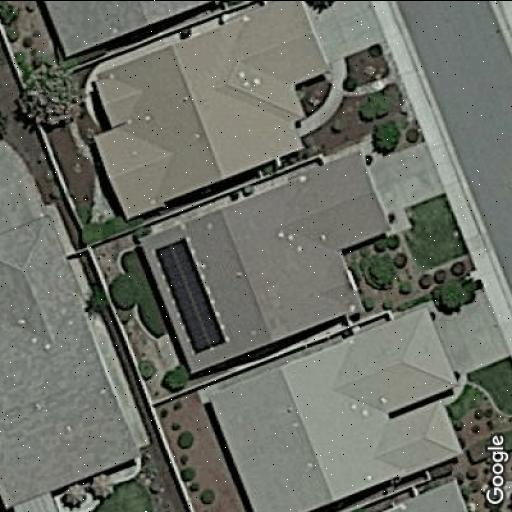solar-panel: (152, 236, 228, 356)
